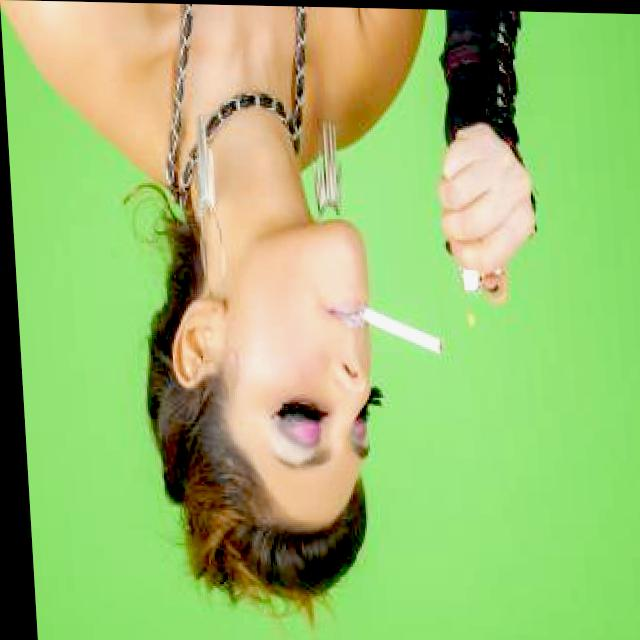Fire: (453, 288, 481, 336)
